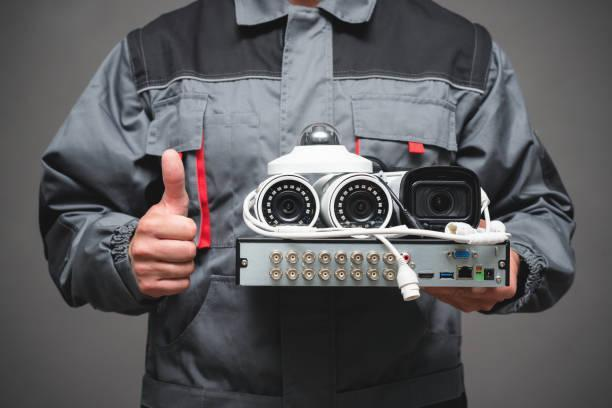camera: (396, 162, 482, 233), (231, 165, 320, 233), (329, 165, 392, 238)
